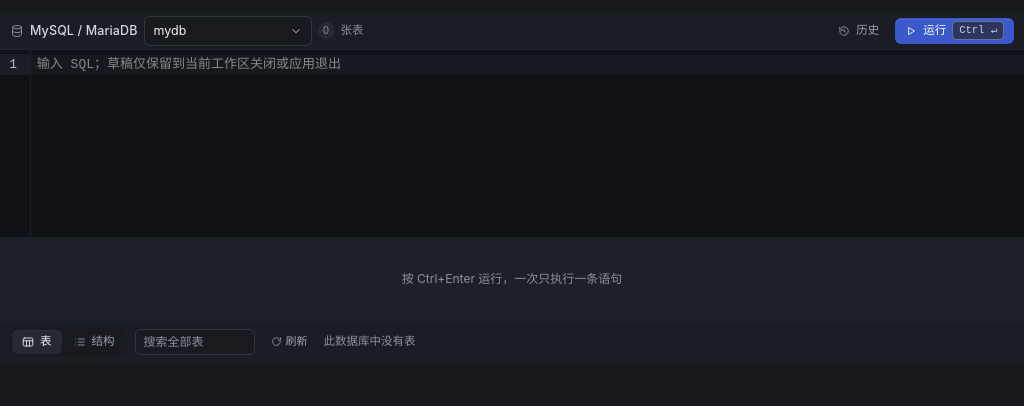
Scenario: DbPanel SQL execution history › explains the 50-record limit and workspace-only lifetime in the history panel
Click the button "历史".
click(859, 30)  # box [828,18,889,44]
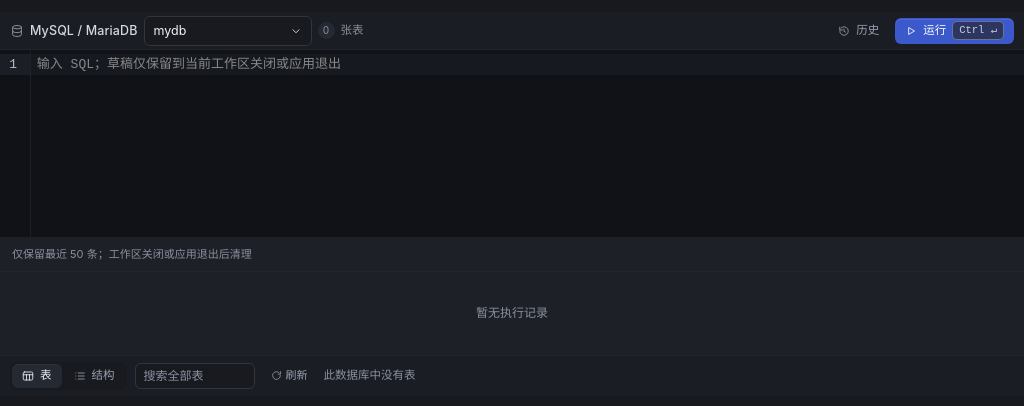
Check: the text "仅保留最近 50 条" is shown, box [12,247,252,261]
Check: the text "工作区关闭或应用退出后清理" is shown, box [12,247,252,261]
